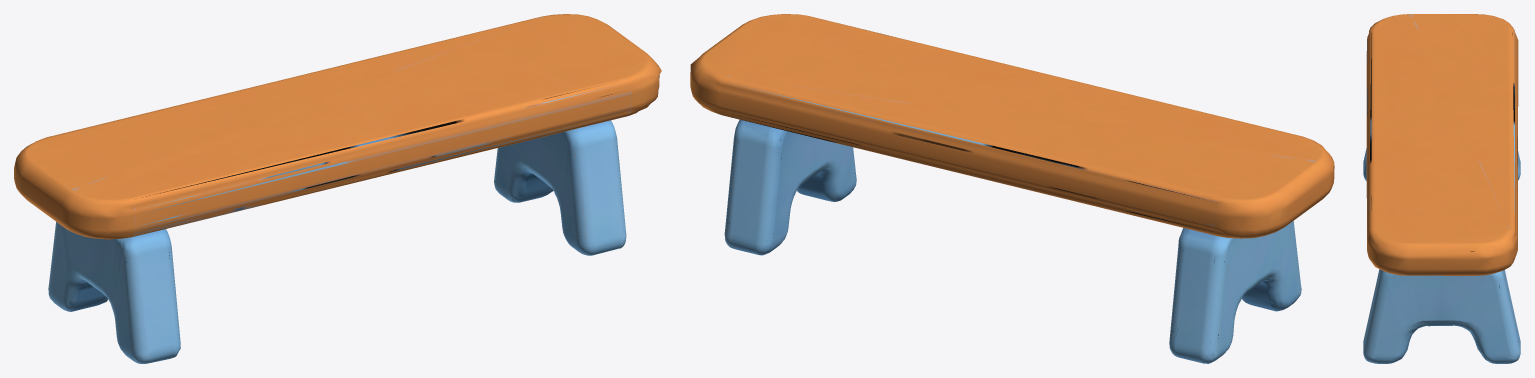
File: pool_bench.glb
3 renders of one model, left to right at view 1: azimuth 30°, elevation 25°; view 2: azimuth 150°, elevation 25°; view 3: azimuth 270°, elevation 25°, orthographic. The views are drawn at different scales.
Parts seen in each view (by area): view 1: geometry_0; view 2: geometry_0; view 3: geometry_0.
Part boxes in pixels (box(x1,y1,x2,y2)): geometry_0: box(14, 14, 661, 363); geometry_0: box(690, 14, 1334, 363); geometry_0: box(1363, 14, 1520, 363).
Bounding box in the file's own units: 0.9507 × 0.2607 × 0.2651.
1 material, 1 textured.
